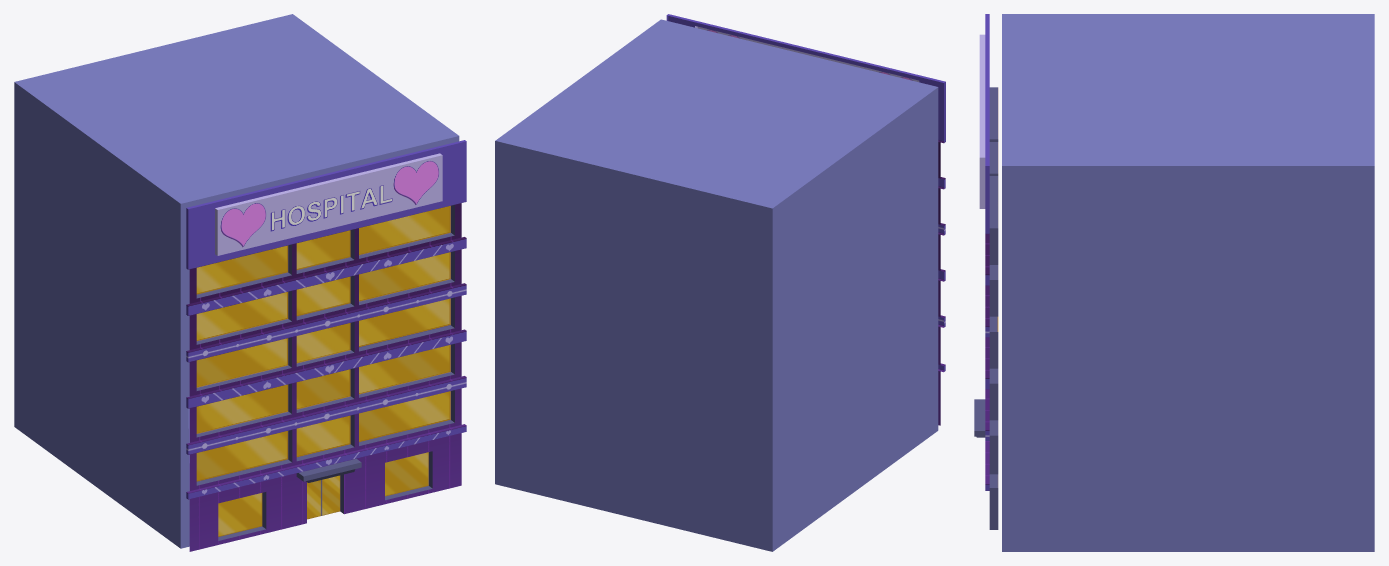
File: Hospital.fbx
3 views of the same model, side by side, from view 1: azimuth 30°, elevation 25°; view 2: azimuth 150°, elevation 25°; view 3: azimuth 270°, elevation 25° (orthographic). The views are drawn at different scales.
Parts seen in each view (by area): view 1: Bldg_Combo_5:Inside_Building, Hospital_polySurface1; view 2: Bldg_Combo_5:Inside_Building, Hospital_polySurface1; view 3: Bldg_Combo_5:Inside_Building, Hospital_polySurface1.
Boxes of the visible parts, x1,y1,x2,y2 form: Bldg_Combo_5:Inside_Building: [14, 14, 459, 548]; Hospital_polySurface1: [186, 140, 466, 551]; Bldg_Combo_5:Inside_Building: [495, 19, 938, 551]; Hospital_polySurface1: [666, 14, 945, 425]; Bldg_Combo_5:Inside_Building: [1002, 14, 1374, 551]; Hospital_polySurface1: [974, 14, 998, 529].
Size of the model in its own units: 12.78 by 15.12 by 14.22.
Materials: 2 (1 with a texture image).
